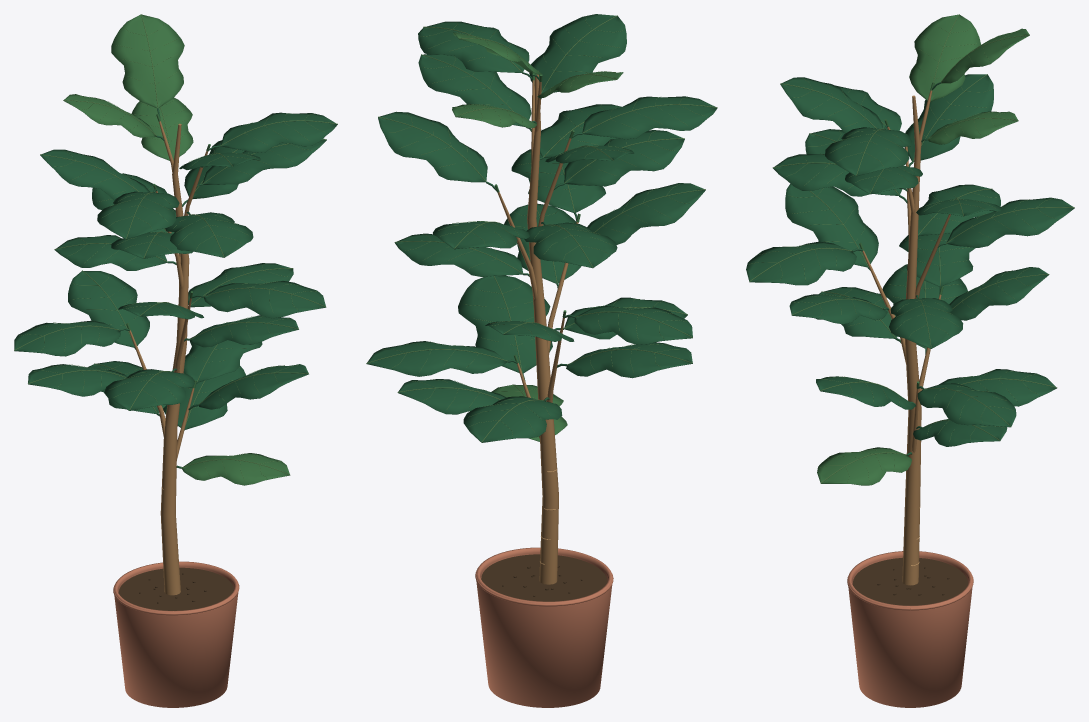
Rendered from potted-fiddle-leaf-fig.glb.
3 views of the same model, side by side, from view 1: azimuth 30°, elevation 25°; view 2: azimuth 150°, elevation 25°; view 3: azimuth 270°, elevation 25° (orthographic). The views are drawn at different scales.
Parts seen in each view (by area): view 1: potted-fiddle-leaf-fig authored assembly; view 2: potted-fiddle-leaf-fig authored assembly; view 3: potted-fiddle-leaf-fig authored assembly.
Part boxes in pixels (x1=…): potted-fiddle-leaf-fig authored assembly: x1=14, y1=14, x2=337, y2=707; potted-fiddle-leaf-fig authored assembly: x1=366, y1=14, x2=717, y2=707; potted-fiddle-leaf-fig authored assembly: x1=746, y1=14, x2=1074, y2=707.
Bounding box in the file's own units: 0.95 × 2 × 0.9.
